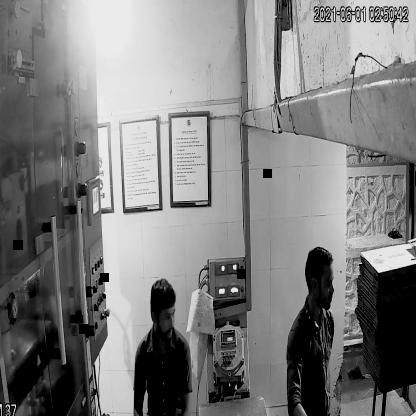no_goggles: (148, 298, 180, 328), (306, 273, 338, 295)
